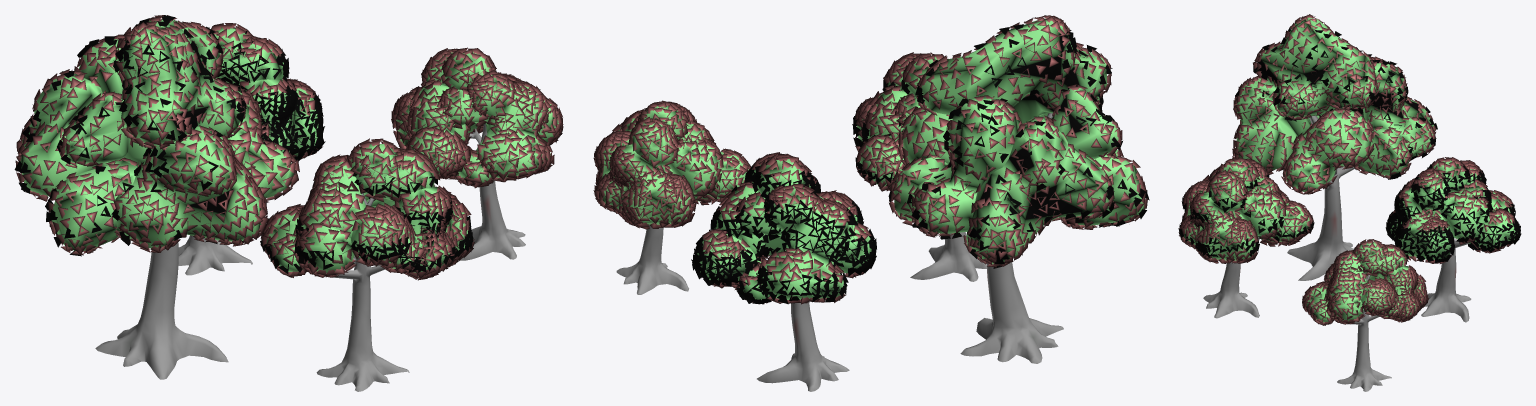
Rendered from SM_ENV_LKNVLD_TreeSet_E.gltf.
3 views of the same model, side by side, from view 1: azimuth 30°, elevation 25°; view 2: azimuth 150°, elevation 25°; view 3: azimuth 270°, elevation 25° (orthographic). The views are drawn at different scales.
Visible parts, largest first — view 1: SM_ENV_LKNVLD_TreeSet_E; view 2: SM_ENV_LKNVLD_TreeSet_E; view 3: SM_ENV_LKNVLD_TreeSet_E.
Part boxes in pixels (x1=…): SM_ENV_LKNVLD_TreeSet_E: x1=14, y1=15, x2=563, y2=391; SM_ENV_LKNVLD_TreeSet_E: x1=593, y1=15, x2=1149, y2=391; SM_ENV_LKNVLD_TreeSet_E: x1=1178, y1=14, x2=1521, y2=391.
Bounding box in the file's own units: 22.51 × 13.96 × 18.07.
